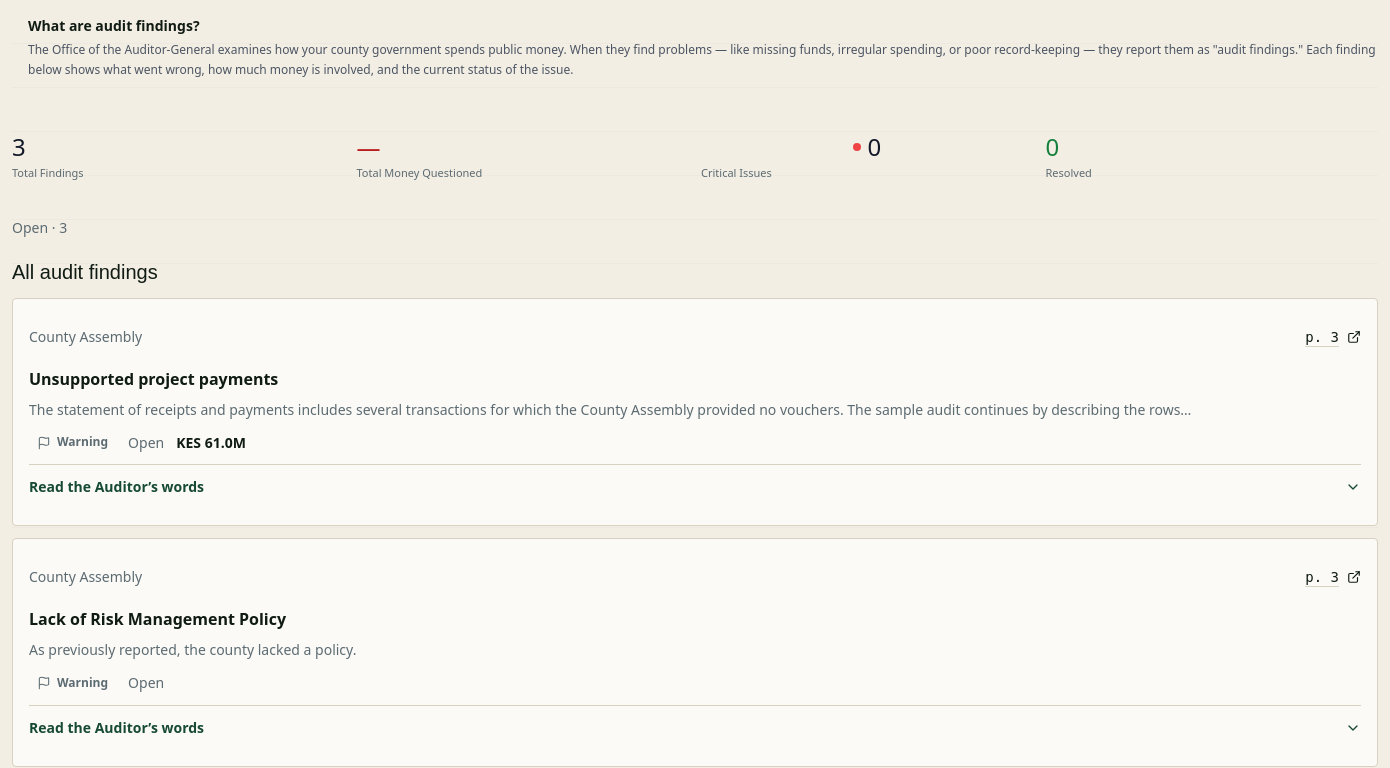
Test: starts collapsed and keeps the report heading, exact words, recommendation and citation
expect the text "KES 61.0M" is shown: met, box top-left (176, 433), bottom-right (246, 453)
Click the heading "Read the Auditor’s words" below "KES 61.0M".
click(117, 487)  # box top-left (29, 477), bottom-right (1361, 496)
(page scrolled)
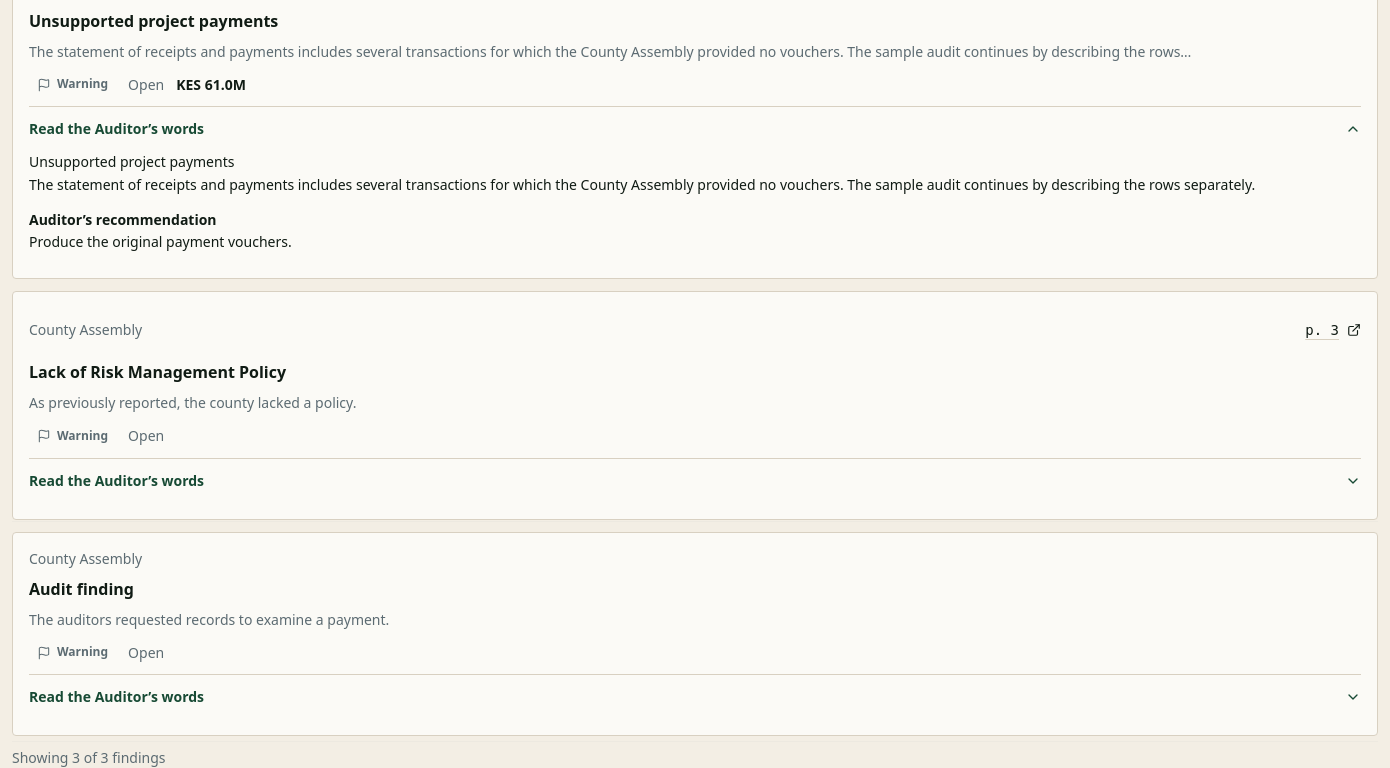
expect the element "Lack of Risk Management Policy" is shown: met, box top-left (12, 291), bottom-right (1378, 520)
expect the text "Produce the original payment vouchers." is shown: met, box top-left (29, 232), bottom-right (292, 251)
